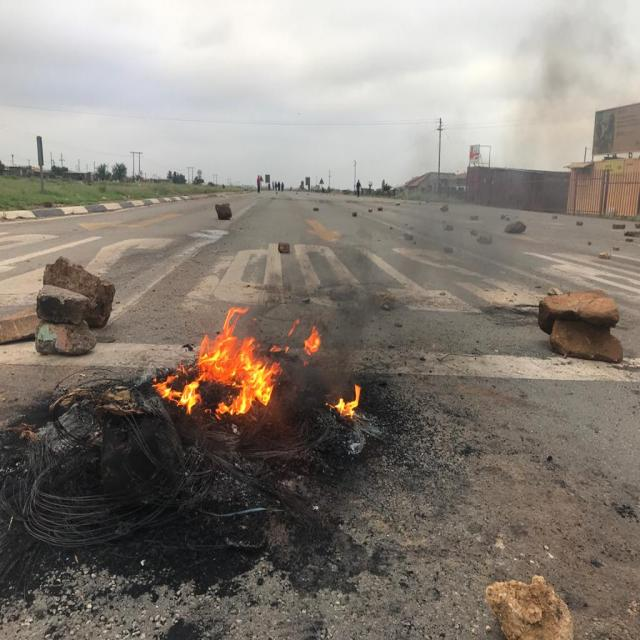fire: (156, 309, 276, 424), (328, 382, 362, 421), (300, 322, 322, 358)
